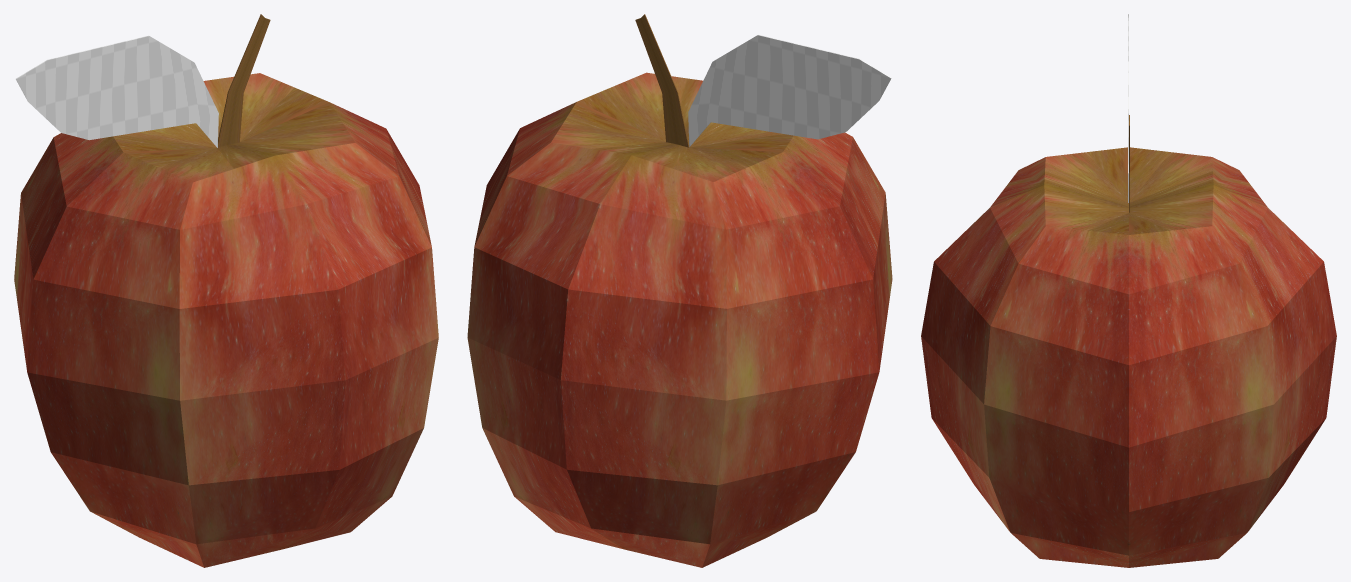
The model's file is Apple.fbx.
3 renders of one model, left to right at view 1: azimuth 30°, elevation 25°; view 2: azimuth 150°, elevation 25°; view 3: azimuth 270°, elevation 25°, orthographic. The views are drawn at different scales.
Visible parts, largest first — view 1: AppleMesh; view 2: AppleMesh; view 3: AppleMesh.
Part boxes in pixels (x1,y1,x2,y2): AppleMesh: [14, 14, 438, 567]; AppleMesh: [467, 14, 892, 567]; AppleMesh: [921, 14, 1336, 567].
Size of the model in its own units: 404 by 478 by 407.
